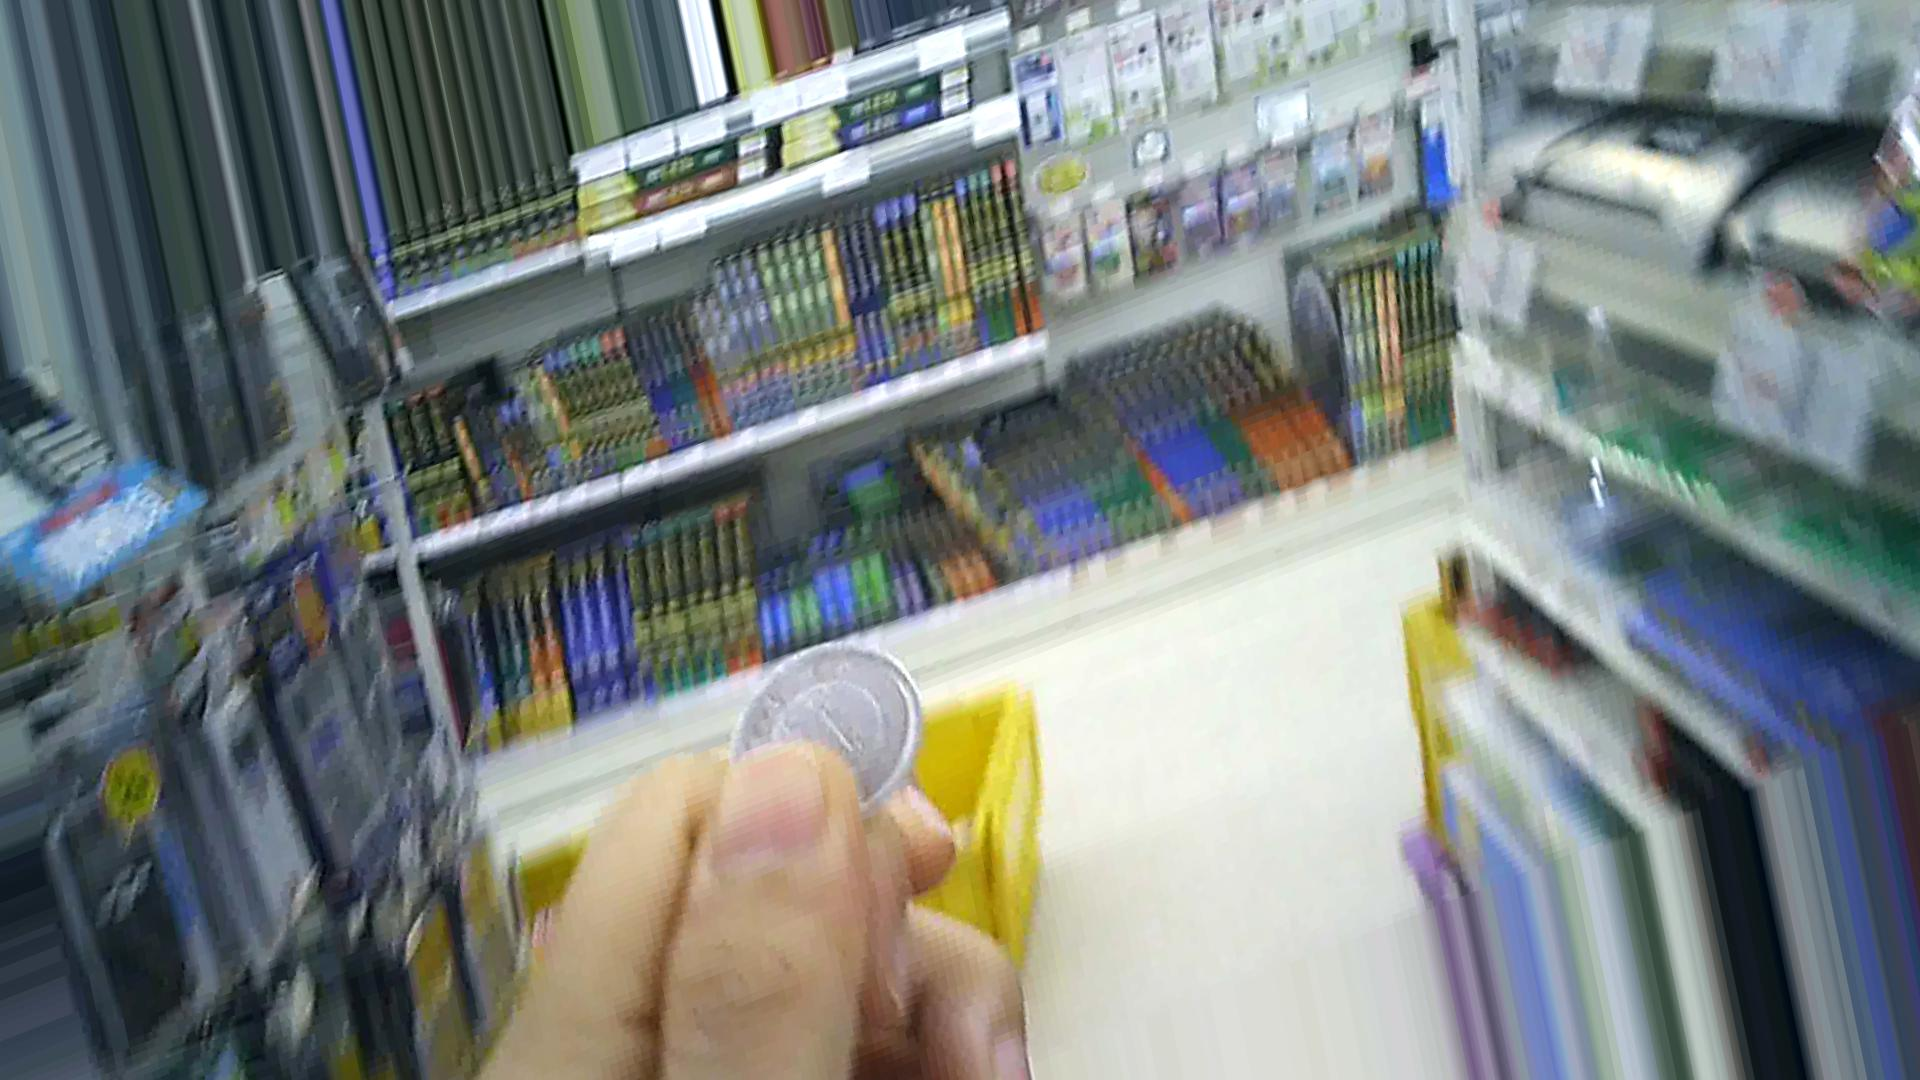1 Yen: (723, 630, 932, 810)
